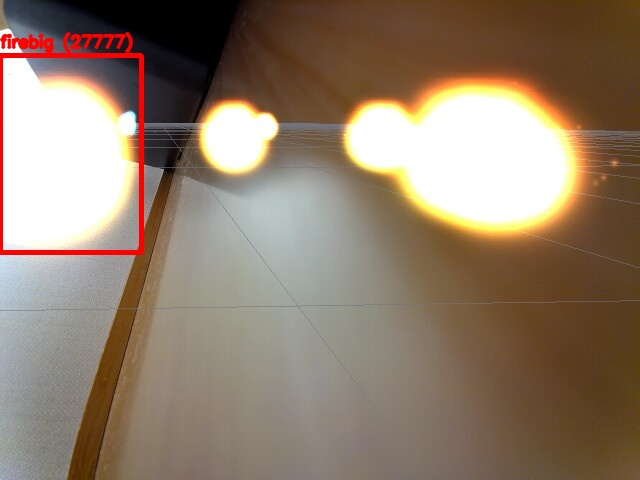firebig: (0, 55, 141, 252)
